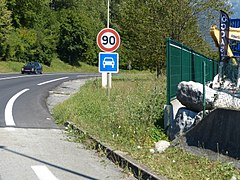Speed_limit_90km: (97, 28, 120, 53)
car: (18, 60, 43, 75)
